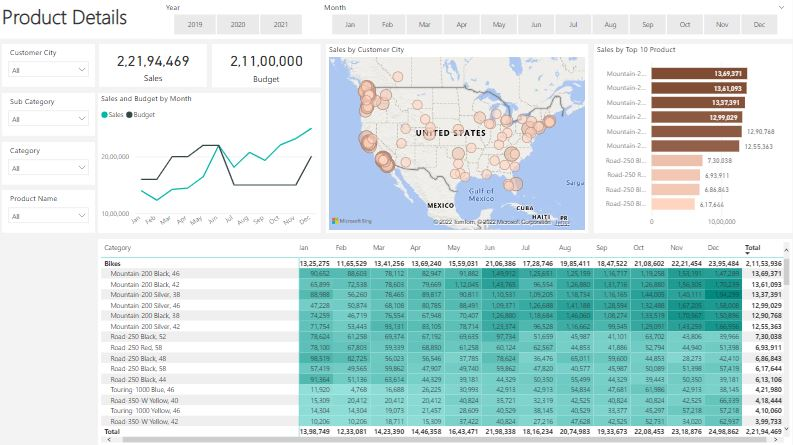

This screenshot's page, from the dashboard's own definition file:
{"tool":"powerbi","page":{"name":"Product Details","canvas":[1280,720],"ordinal":2},"visuals":[{"type":"textbox","box":[0,0,1280,64],"z":0},{"type":"slicer","fields":{"Values":["DIM_Calendar.Year"]},"box":[256,0,256,64],"z":1000},{"type":"slicer","fields":{"Values":["DIM_Calendar.MonthShort"]},"box":[512,0,768,64],"z":2000},{"type":"slicer","fields":{"Values":["DIM_Customers.Customer City"]},"box":[4.8,72.6,150,69.4],"z":3000},{"type":"slicer","fields":{"Values":["DIM_Products.Product Category"]},"box":[4.8,230.6,150,69.4],"z":4000},{"type":"slicer","fields":{"Values":["DIM_Products.Product Name"]},"box":[4.8,308.1,150,69.4],"z":5000},{"type":"slicer","fields":{"Values":["DIM_Products.Sub Category"]},"box":[4.8,151.6,150,69.4],"z":6000},{"type":"lineChart","fields":{"Category":["DIM_Calendar.MonthShort"],"Y":["Analysis Metrics.Sales","Analysis Metrics.Budget"]},"box":[159.8,151.8,358.7,226.4],"z":7000},{"type":"card","fields":{"Values":["Analysis Metrics.Sales"]},"box":[160.7,72.8,174,69.2],"z":8000},{"type":"map","fields":{"Category":["DIM_Customers.Customer City"],"Size":["Analysis Metrics.Sales"]},"box":[527.3,72.8,423.5,304.5],"z":9000},{"type":"card","fields":{"Values":["Analysis Metrics.Budget"]},"box":[343.6,72.8,174.9,70.1],"z":10000},{"type":"pivotTable","fields":{"Rows":["DIM_Products.Product Category","DIM_Products.Product Name"],"Columns":["DIM_Calendar.MonthShort"],"Values":["Analysis Metrics.Sales"]},"box":[159.8,387.1,1120.4,332.9],"z":11000},{"type":"clusteredBarChart","title":"Sales by Top 10 Product","fields":{"Category":["DIM_Products.Product Name"],"Y":["Analysis Metrics.Sales"]},"box":[959.7,72.8,320.5,304.5],"z":12000}]}

Visuals, with their boxes in screenshot pixels (x1, y1, x2, y2), scaled from the page's 1280x720 canvas onto the 793x445 screenshot:
textbox: select_region(0, 0, 792, 40)
slicer - DIM_Calendar.Year: select_region(159, 0, 317, 40)
slicer - DIM_Calendar.MonthShort: select_region(317, 0, 792, 40)
slicer - DIM_Customers.Customer City: select_region(3, 45, 96, 88)
slicer - DIM_Products.Product Category: select_region(3, 143, 96, 185)
slicer - DIM_Products.Product Name: select_region(3, 190, 96, 233)
slicer - DIM_Products.Sub Category: select_region(3, 94, 96, 137)
lineChart - DIM_Calendar.MonthShort x Analysis Metrics.Sales: select_region(99, 94, 321, 234)
card - Analysis Metrics.Sales: select_region(100, 45, 207, 88)
map - DIM_Customers.Customer City x Analysis Metrics.Sales: select_region(327, 45, 589, 233)
card - Analysis Metrics.Budget: select_region(213, 45, 321, 88)
pivotTable - DIM_Products.Product Category x DIM_Products.Product Name: select_region(99, 239, 792, 444)
"Sales by Top 10 Product" clusteredBarChart: select_region(595, 45, 792, 233)
